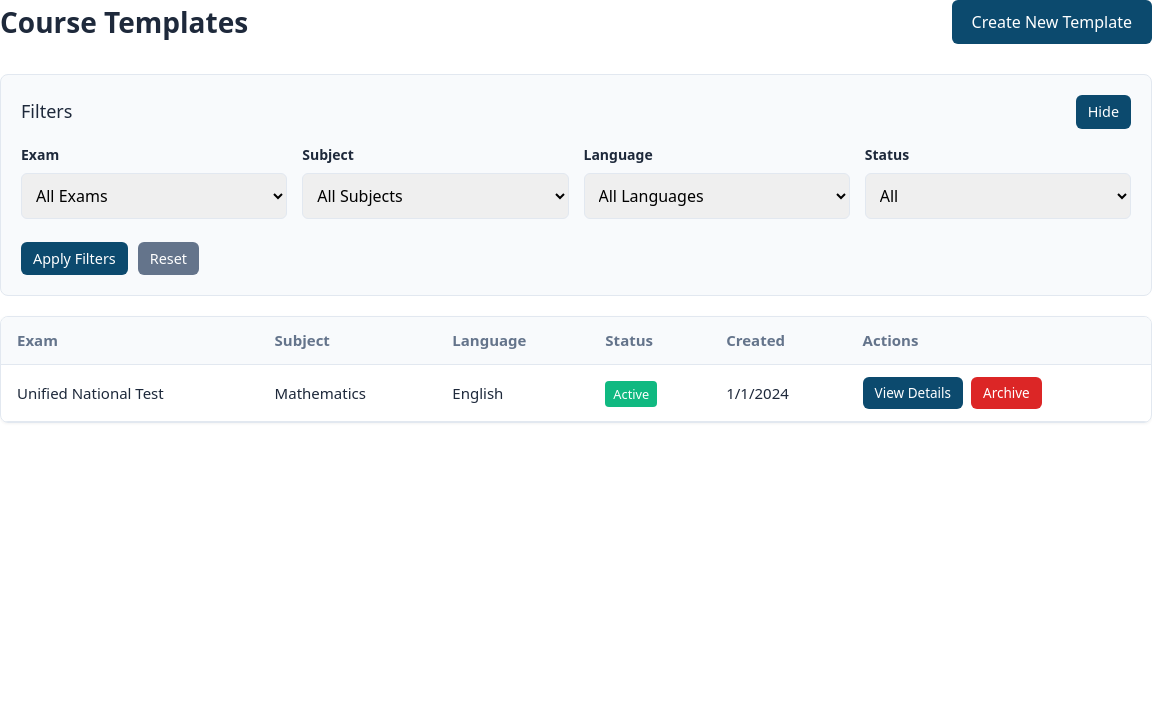
Test: CourseTemplatePanel › opens regenerate modal when regenerate button is clicked
This screenshot has width=1152, height=720.
Click the button "View Details" at (913, 393), box [863,377,963,409]
(page scrolled)
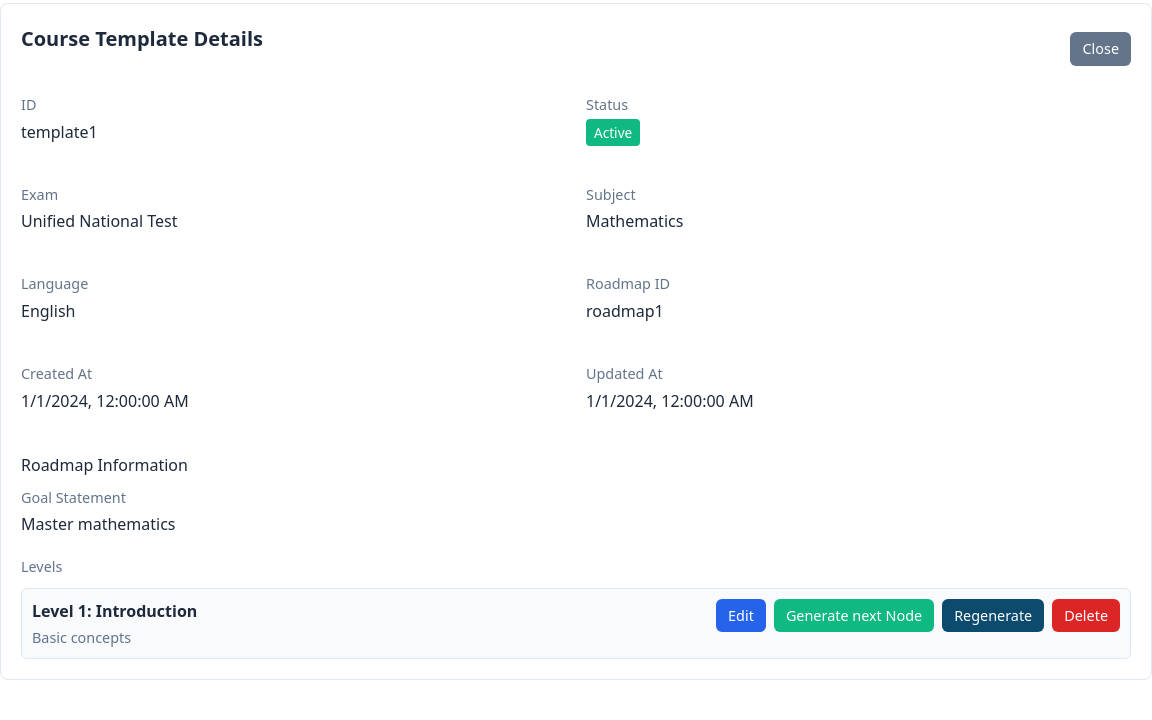
Result: the text "Level 1: Introduction" is shown at [32,599,197,623]
Click the button "Regenerate" at (993, 616), box [942,599,1044,632]
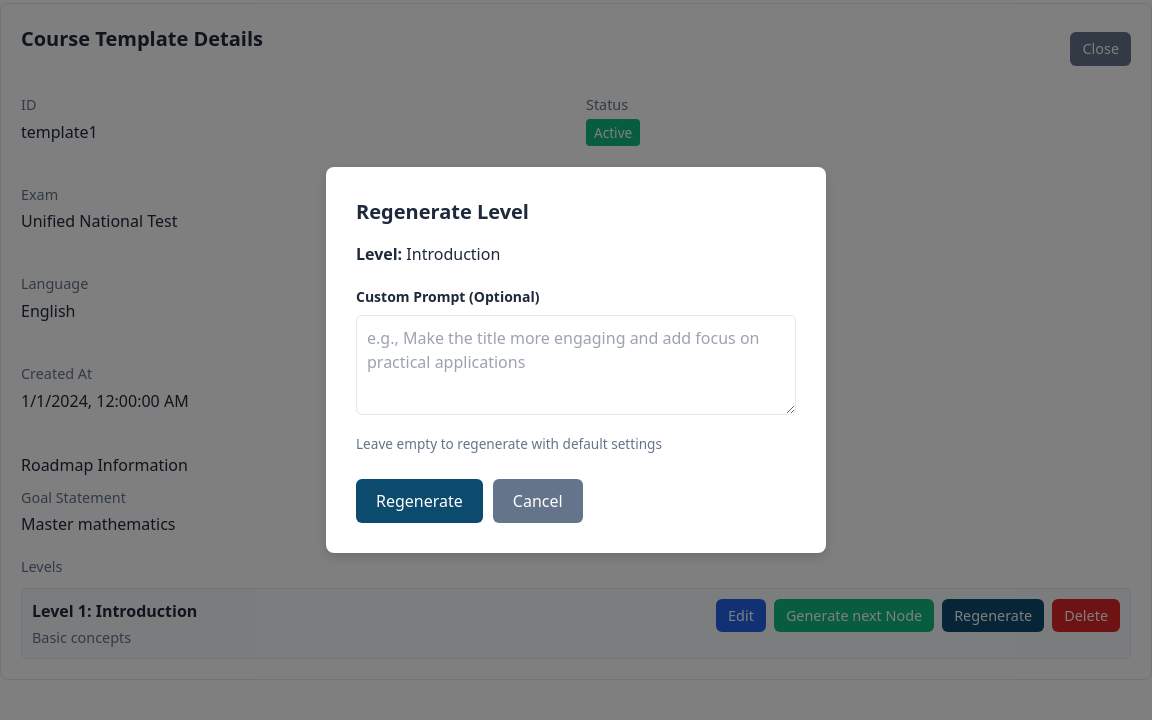
Result: the heading "Regenerate Level" is shown at [356,198,529,225]
Result: the text box with placeholder "Make the title more engaging" is shown at [356,315,796,415]
